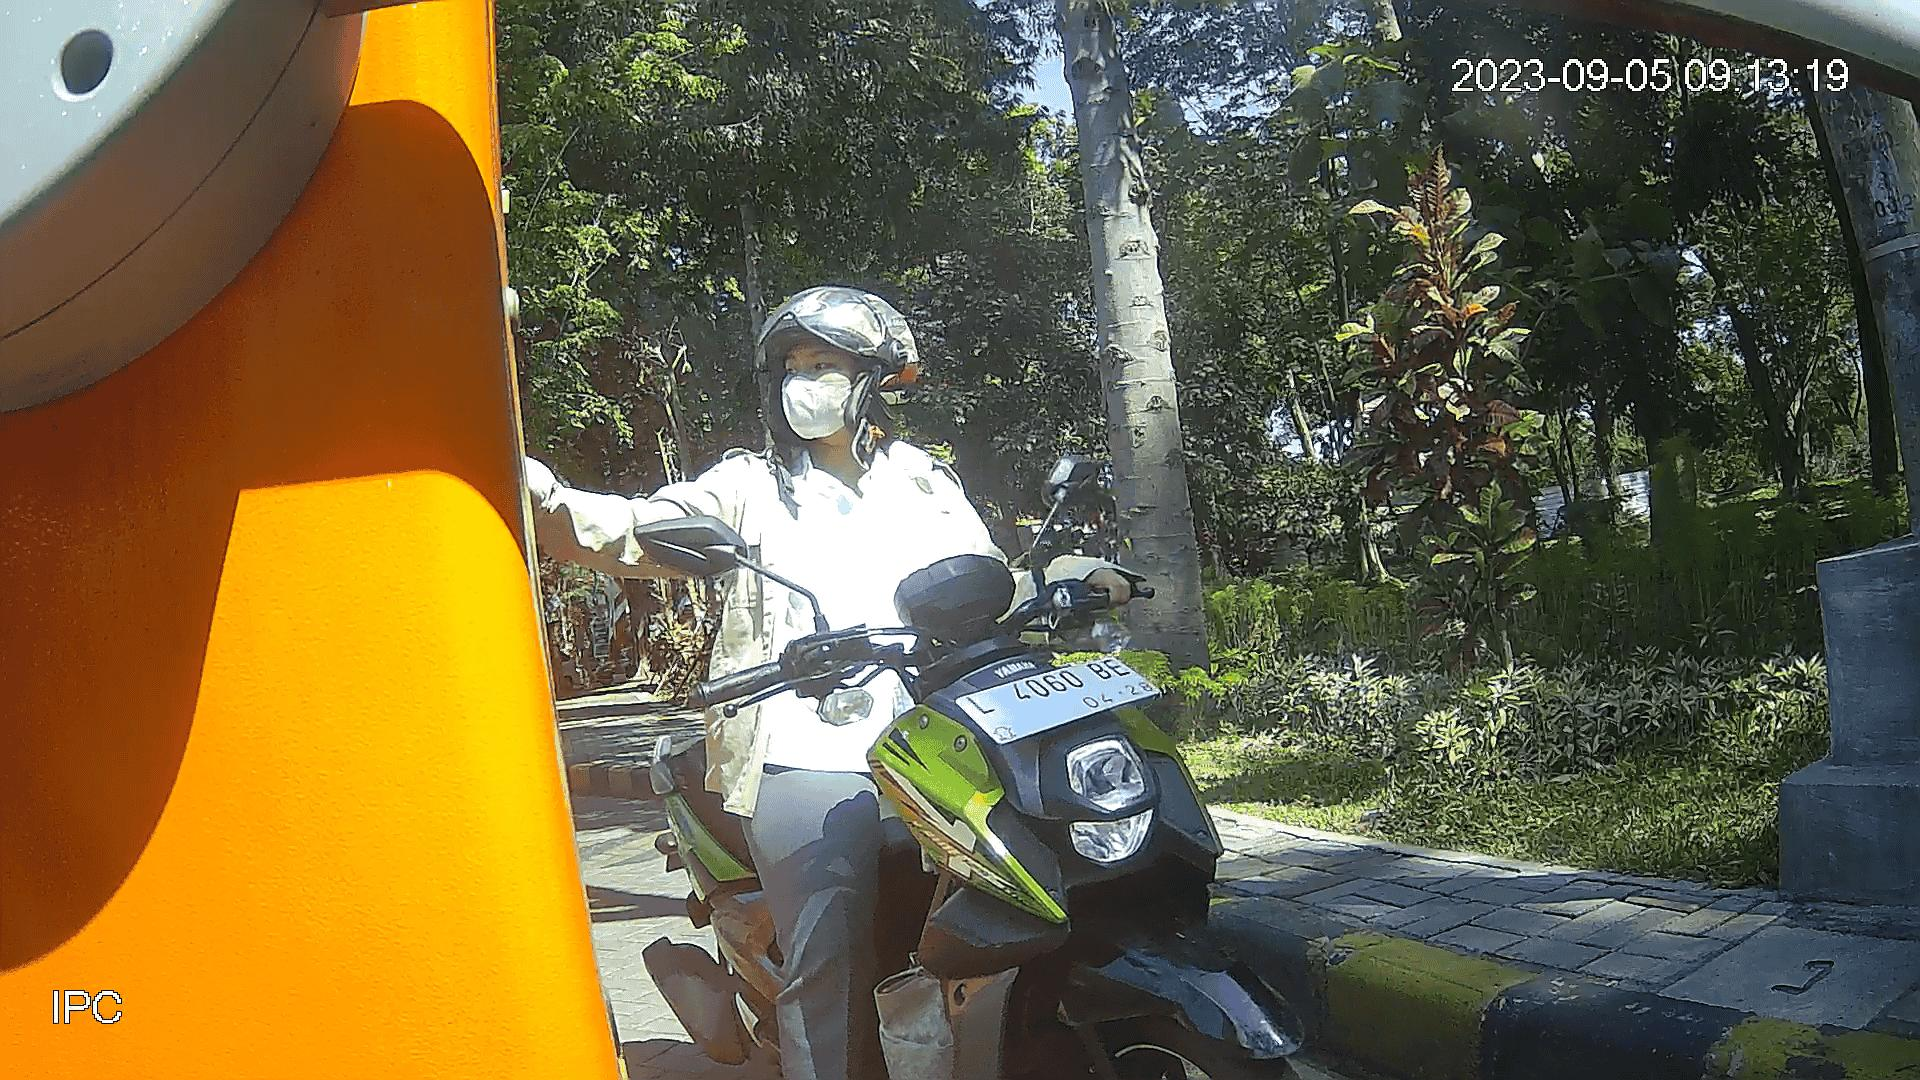plat: (949, 655, 1164, 748)
